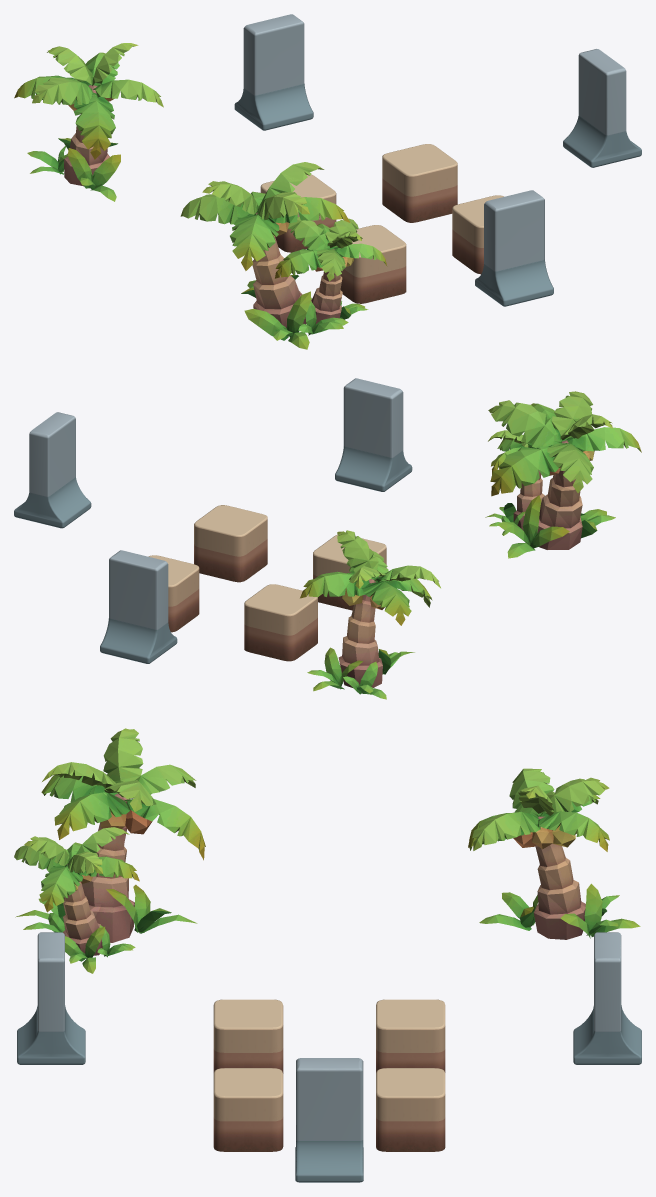
The model's file is Props.fbx.
3 views of the same model, one above another, from view 1: azimuth 30°, elevation 25°; view 2: azimuth 150°, elevation 25°; view 3: azimuth 270°, elevation 25° (orthographic). The views are drawn at different scales.
Parts seen in each view (by area): view 1: 曲面单元 (×3), yezishu01, yezishu02, Box01 (1), Box01 (2), Box01, Box01 (3); view 2: 曲面单元 (×3), yezishu01, yezishu02, Box01, Box01 (3), Box01 (1), Box01 (2); view 3: yezishu01, 曲面单元 (×3), yezishu02, Box01, Box01 (1), Box01 (2), Box01 (3).
Part boxes in pixels (x1,y1,x2,y2): 曲面单元 (×3): (234, 14, 641, 306); yezishu01: (180, 162, 387, 349); yezishu02: (14, 43, 163, 201); Box01 (1): (382, 144, 457, 222); Box01 (2): (334, 225, 406, 303); Box01: (452, 195, 503, 274); Box01 (3): (260, 174, 336, 252); 曲面单元 (×3): (14, 378, 412, 663); yezishu01: (485, 391, 641, 558); yezishu02: (300, 530, 440, 699); Box01: (194, 505, 267, 582); Box01 (3): (244, 584, 317, 661); Box01 (1): (148, 555, 199, 632); Box01 (2): (313, 534, 386, 610); yezishu01: (14, 728, 205, 973); 曲面单元 (×3): (17, 932, 641, 1182); yezishu02: (468, 768, 640, 939); Box01: (213, 1068, 283, 1151); Box01 (1): (376, 1068, 445, 1151); Box01 (2): (213, 999, 283, 1073); Box01 (3): (376, 999, 445, 1072).
Bounding box in the file's own units: 29.54 × 10.64 × 27.09.
